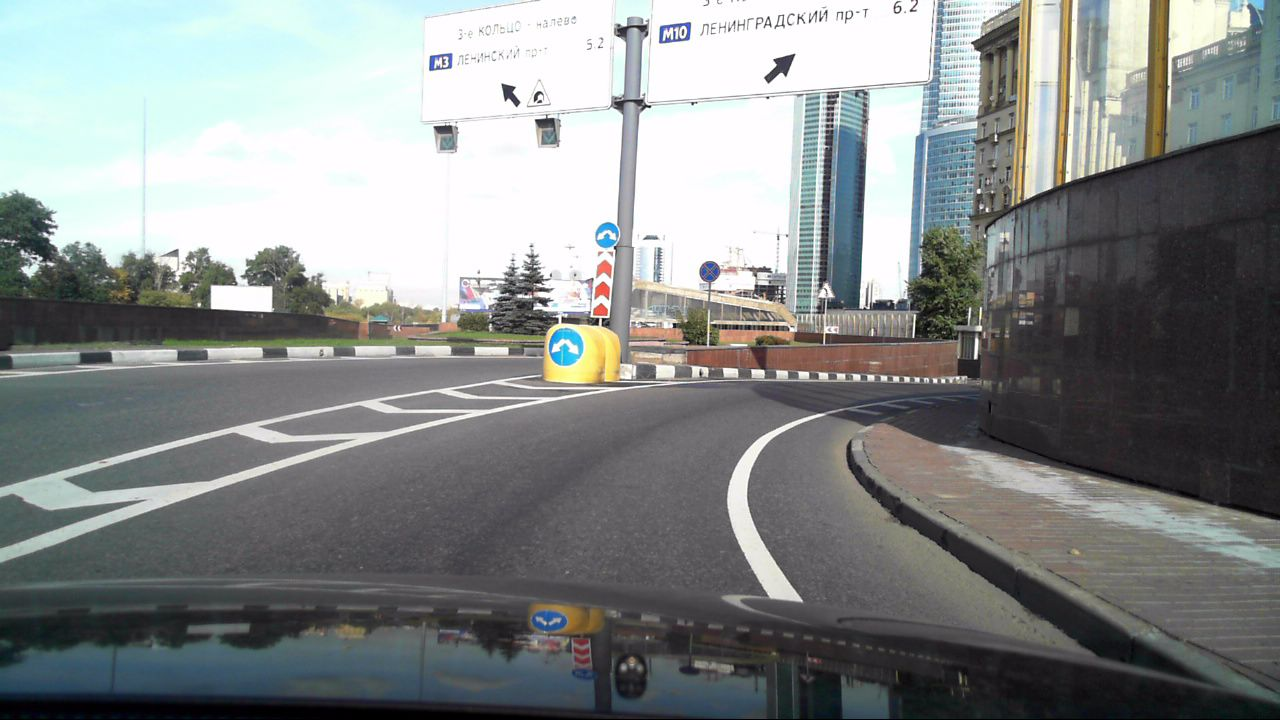No Parking: (697, 258, 721, 284)
